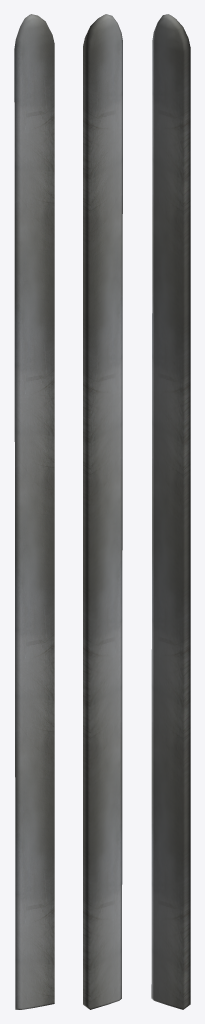
The model's file is blade_100.fbx.
The picture shows the model from 3 angles, left to right: view 1: azimuth 30°, elevation 25°; view 2: azimuth 210°, elevation 25°; view 3: azimuth 330°, elevation 25°; orthographic projection.
Parts seen in each view (by area): view 1: blade_100; view 2: blade_100; view 3: blade_100.
Part boxes in pixels (x1,y1,x2,y2): blade_100: [14, 14, 54, 1009]; blade_100: [83, 14, 122, 1009]; blade_100: [151, 14, 190, 1009].
Bounding box in the file's own units: 1 × 26.73 × 0.3578.
